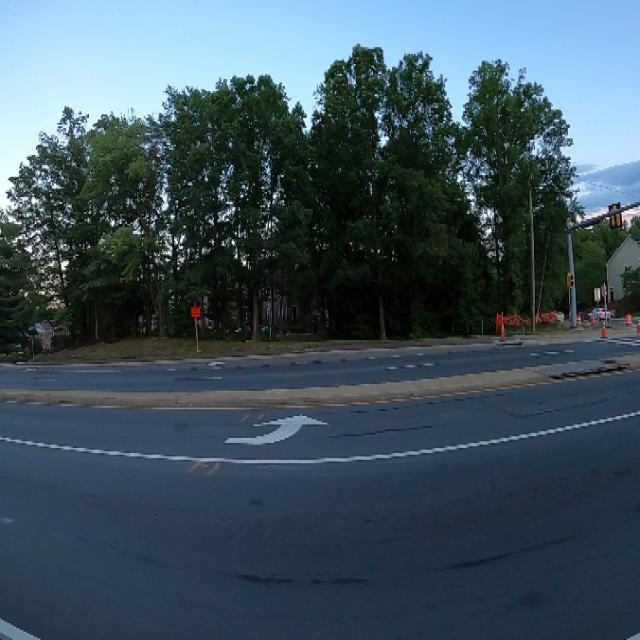cars: (590, 300, 610, 324)
